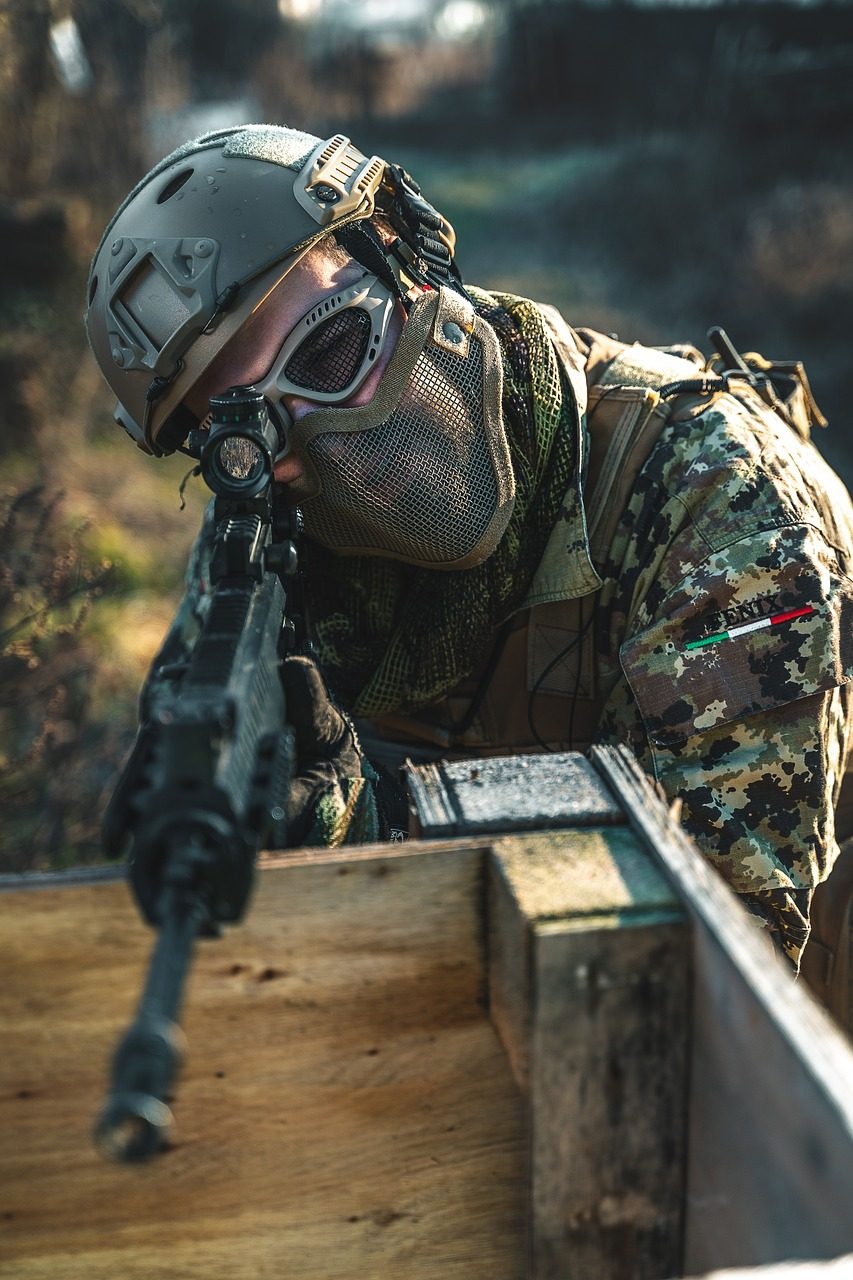gun: (86, 379, 311, 1171)
